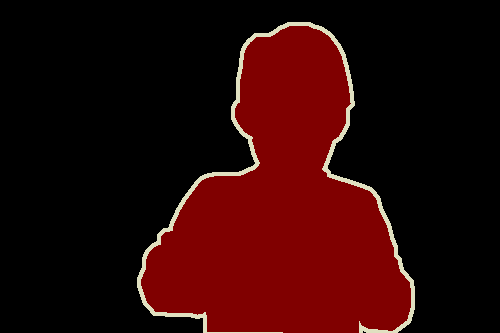person: (136, 6, 419, 333)
person/hand: (313, 202, 372, 290), (238, 191, 293, 280)
person/head: (233, 24, 352, 182)
